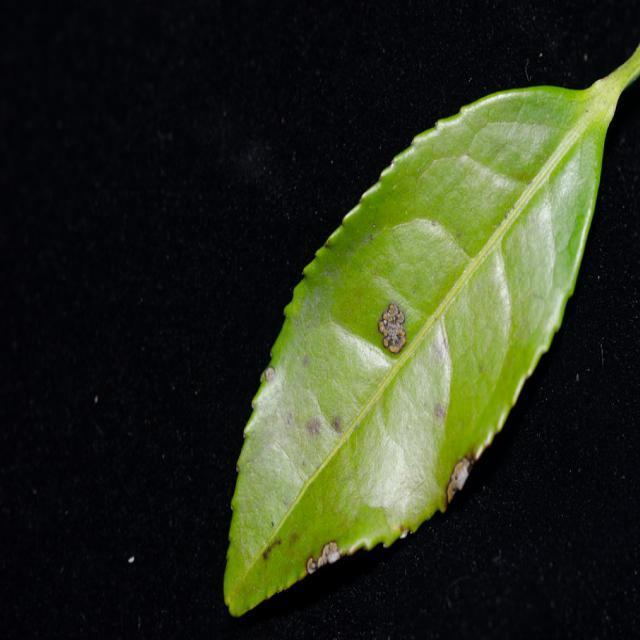Tea red rust: (266, 277, 480, 570)
